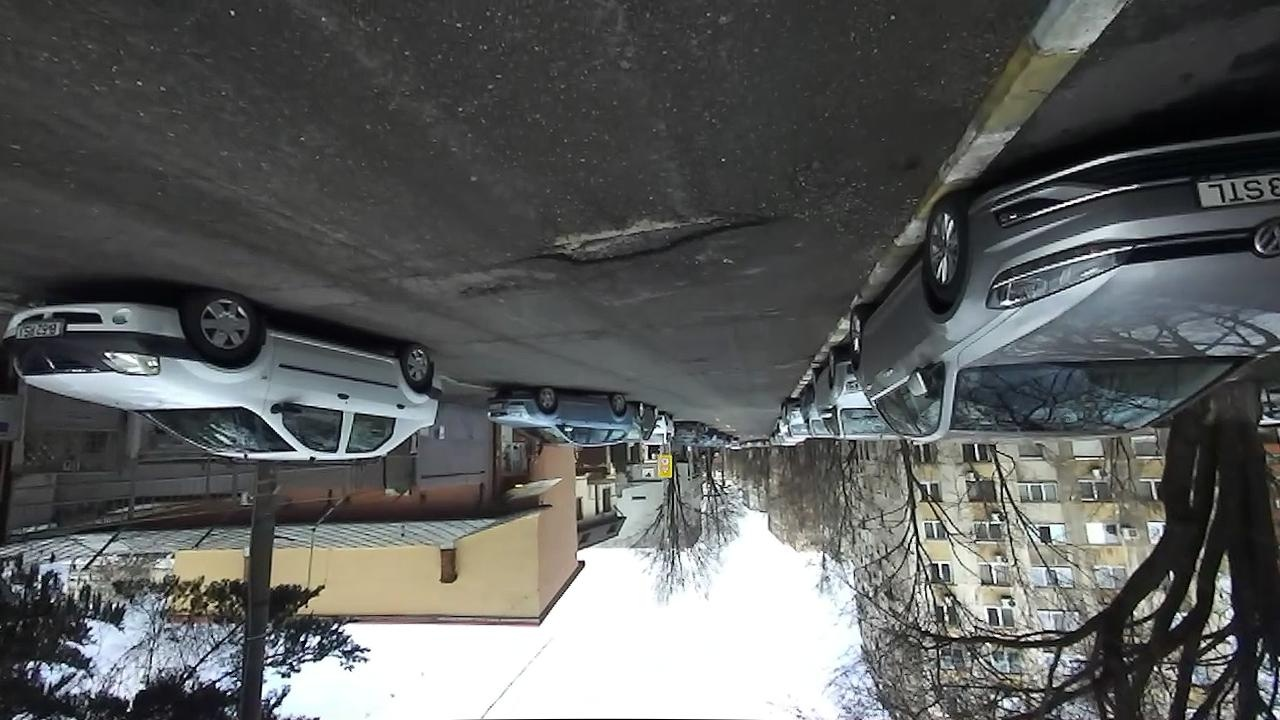pothole: (502, 211, 779, 269), (453, 277, 530, 307)
